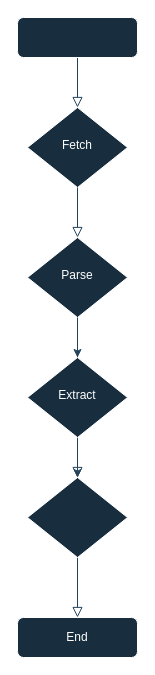
The diagram is 155 pixels wide and 675 high, and some of its shapes have lost their labels. The shapes that lost their labels are listed below. From the top down, each one's box as (x1, y1, x2, y2) in pixels, then its label:
(16, 16, 138, 58): Start
(26, 476, 128, 558): Store
